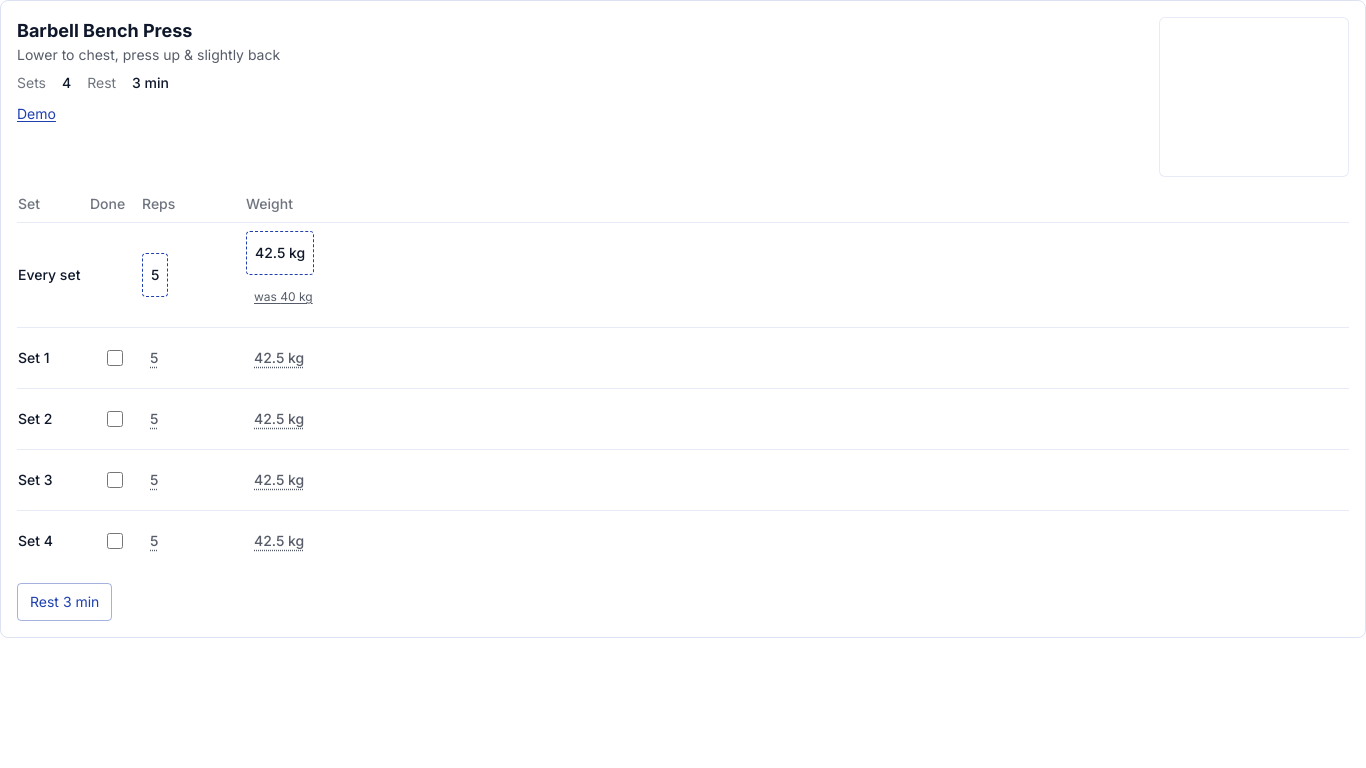
Scenario: WorkoutExercise › should tell the user what a set falls back to inside its editor
The image size is (1366, 768).
Click the button named "change weight for set 2 of Barbell Bench Press": (279, 419) [246, 397, 312, 441]
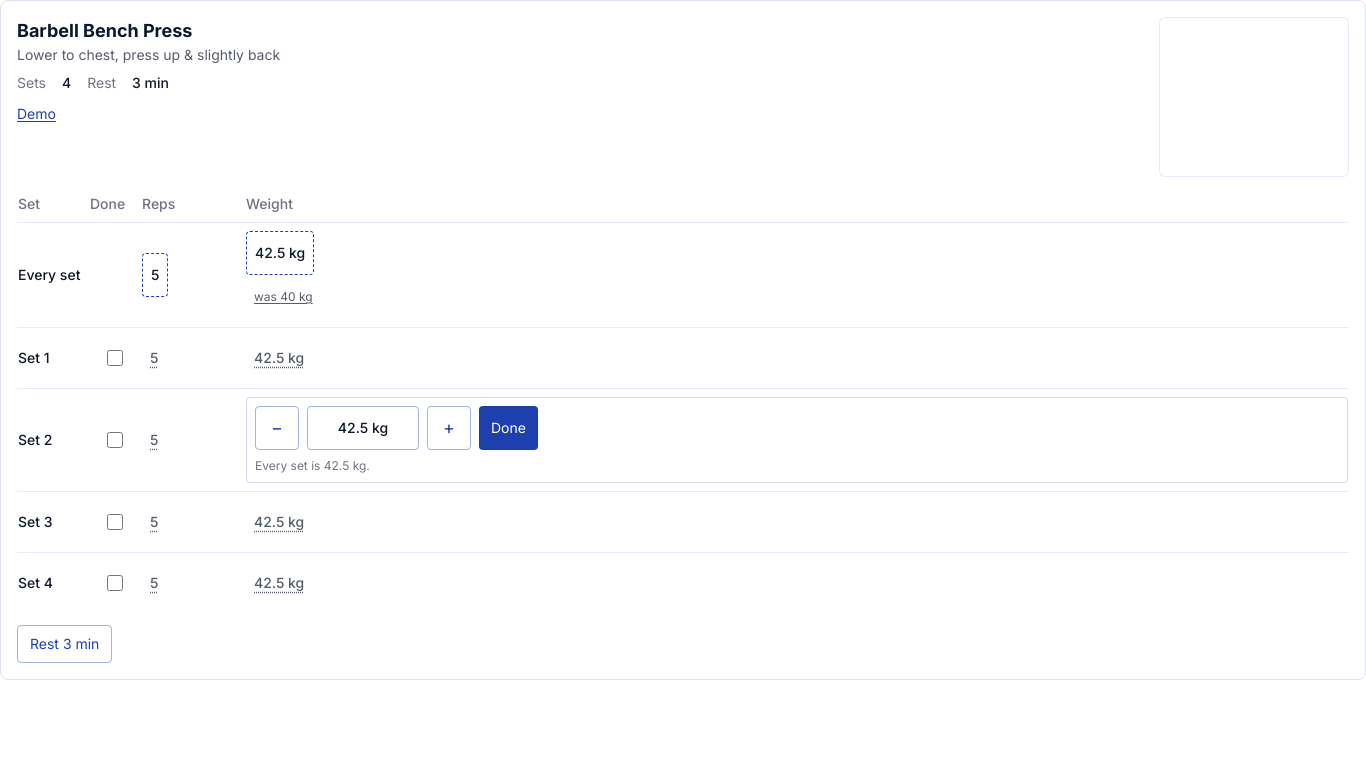
Check: the text "Every set is 42.5 kg." is shown, box [255, 458, 370, 473]
